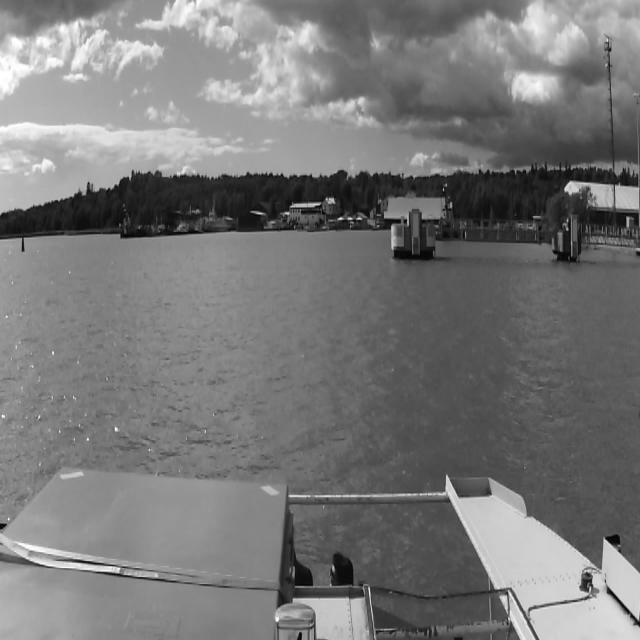buoy: (21, 236, 25, 252)
ship: (436, 192, 458, 241)
